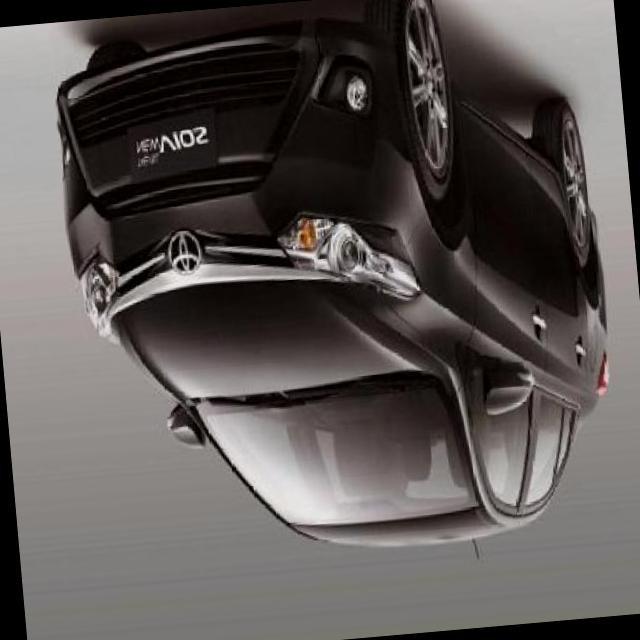ToyotaVios: (46, 0, 630, 587)
